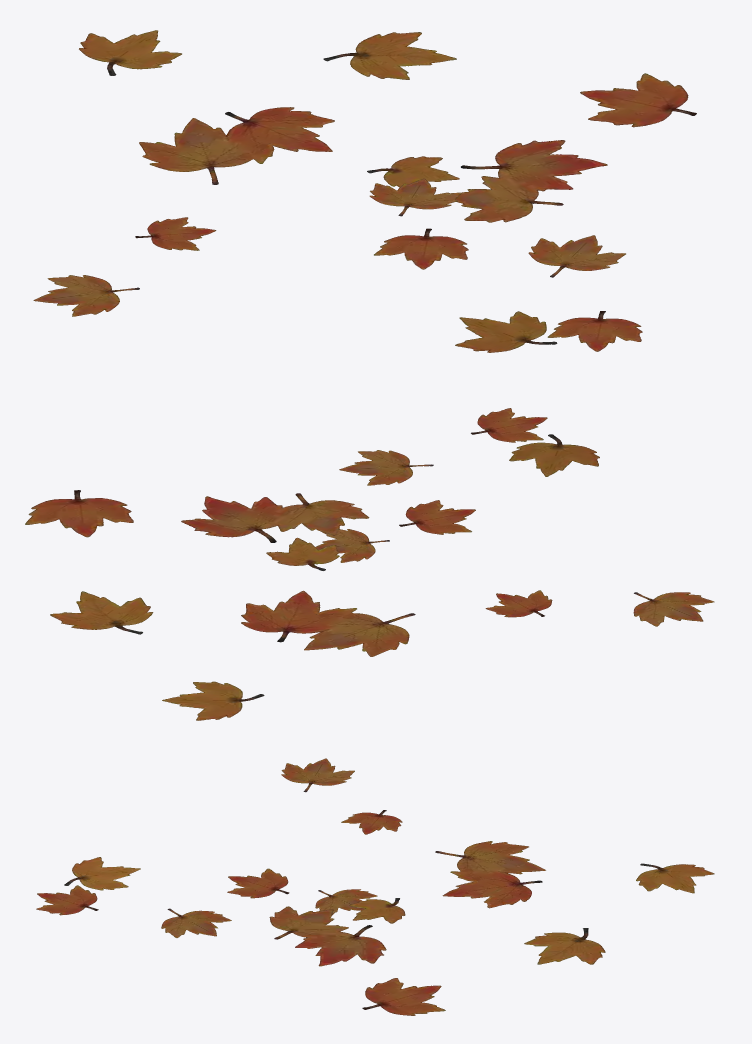
The picture shows the model from 3 angles, top to bottom: view 1: azimuth 30°, elevation 25°; view 2: azimuth 150°, elevation 25°; view 3: azimuth 270°, elevation 25°; orthographic projection. The views are drawn at different scales.
Parts seen in each view (by area): view 1: SM_ScatteredLeaves_Maple_07_LOD0; view 2: SM_ScatteredLeaves_Maple_07_LOD0; view 3: SM_ScatteredLeaves_Maple_07_LOD0.
Part boxes in pixels (x1,y1,x2,y2): SM_ScatteredLeaves_Maple_07_LOD0: (33,30,696,352); SM_ScatteredLeaves_Maple_07_LOD0: (25,408,714,720); SM_ScatteredLeaves_Maple_07_LOD0: (36,758,714,1015).
Bounding box in the file's own units: 1.82 × 0 × 2.01.
Materials: 1 (1 with a texture image).
